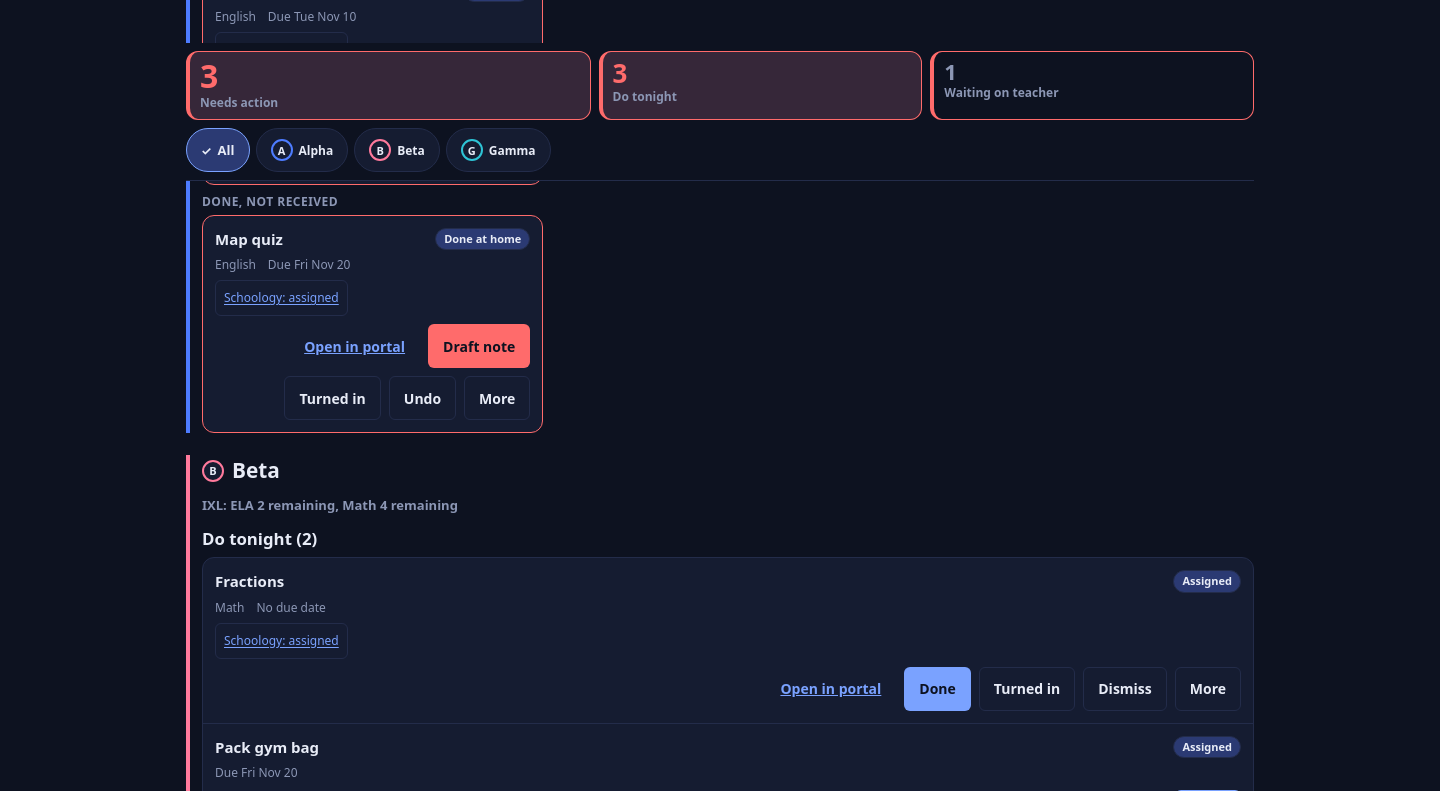
Test case: a history load failure is explained inside the sheet
(page scrolled)
Click the button with aria-label "More for Map quiz (English, Alpha)" at (497, 398), box [464, 376, 530, 420]
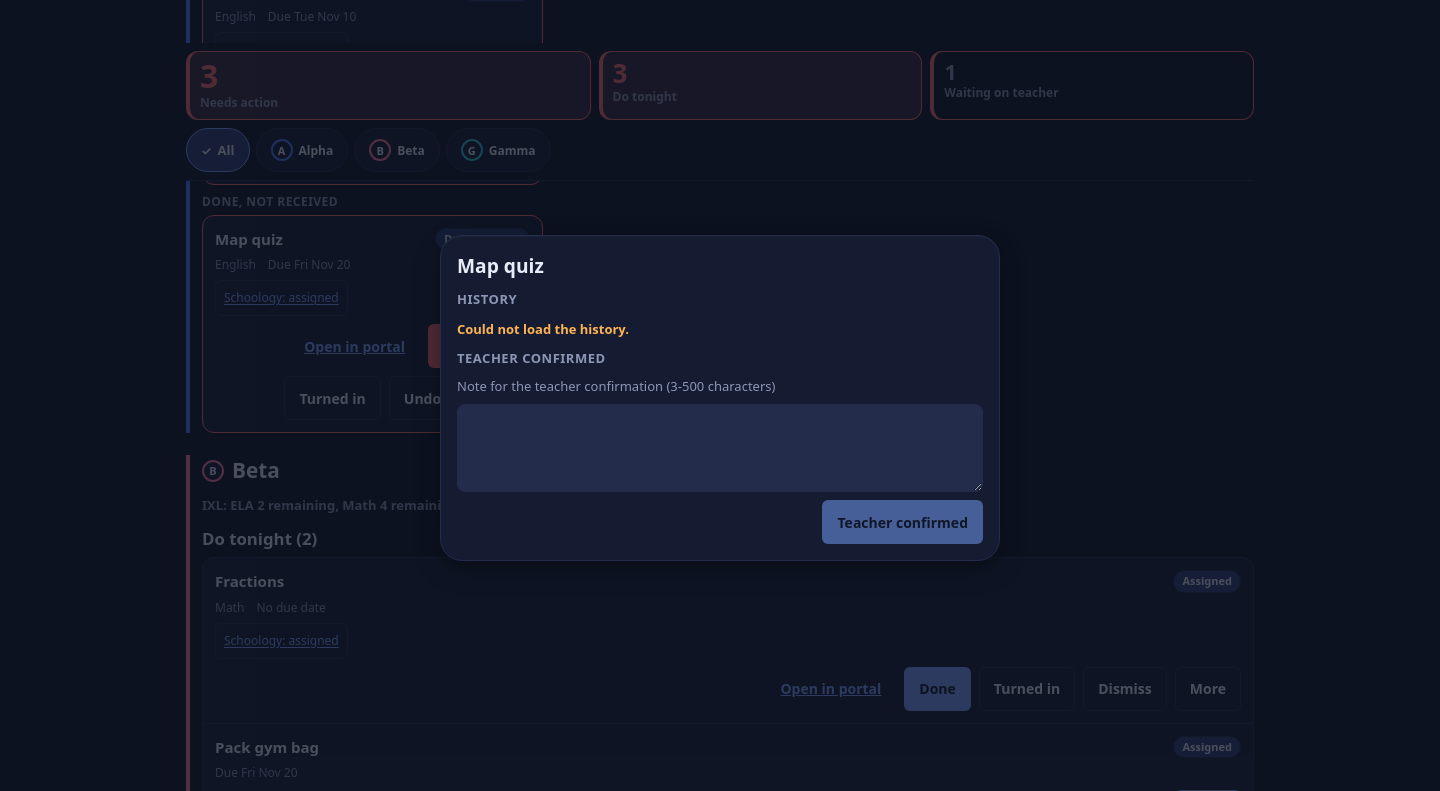
Result: the text "Could not load the history." is shown at [457, 320, 629, 338]
